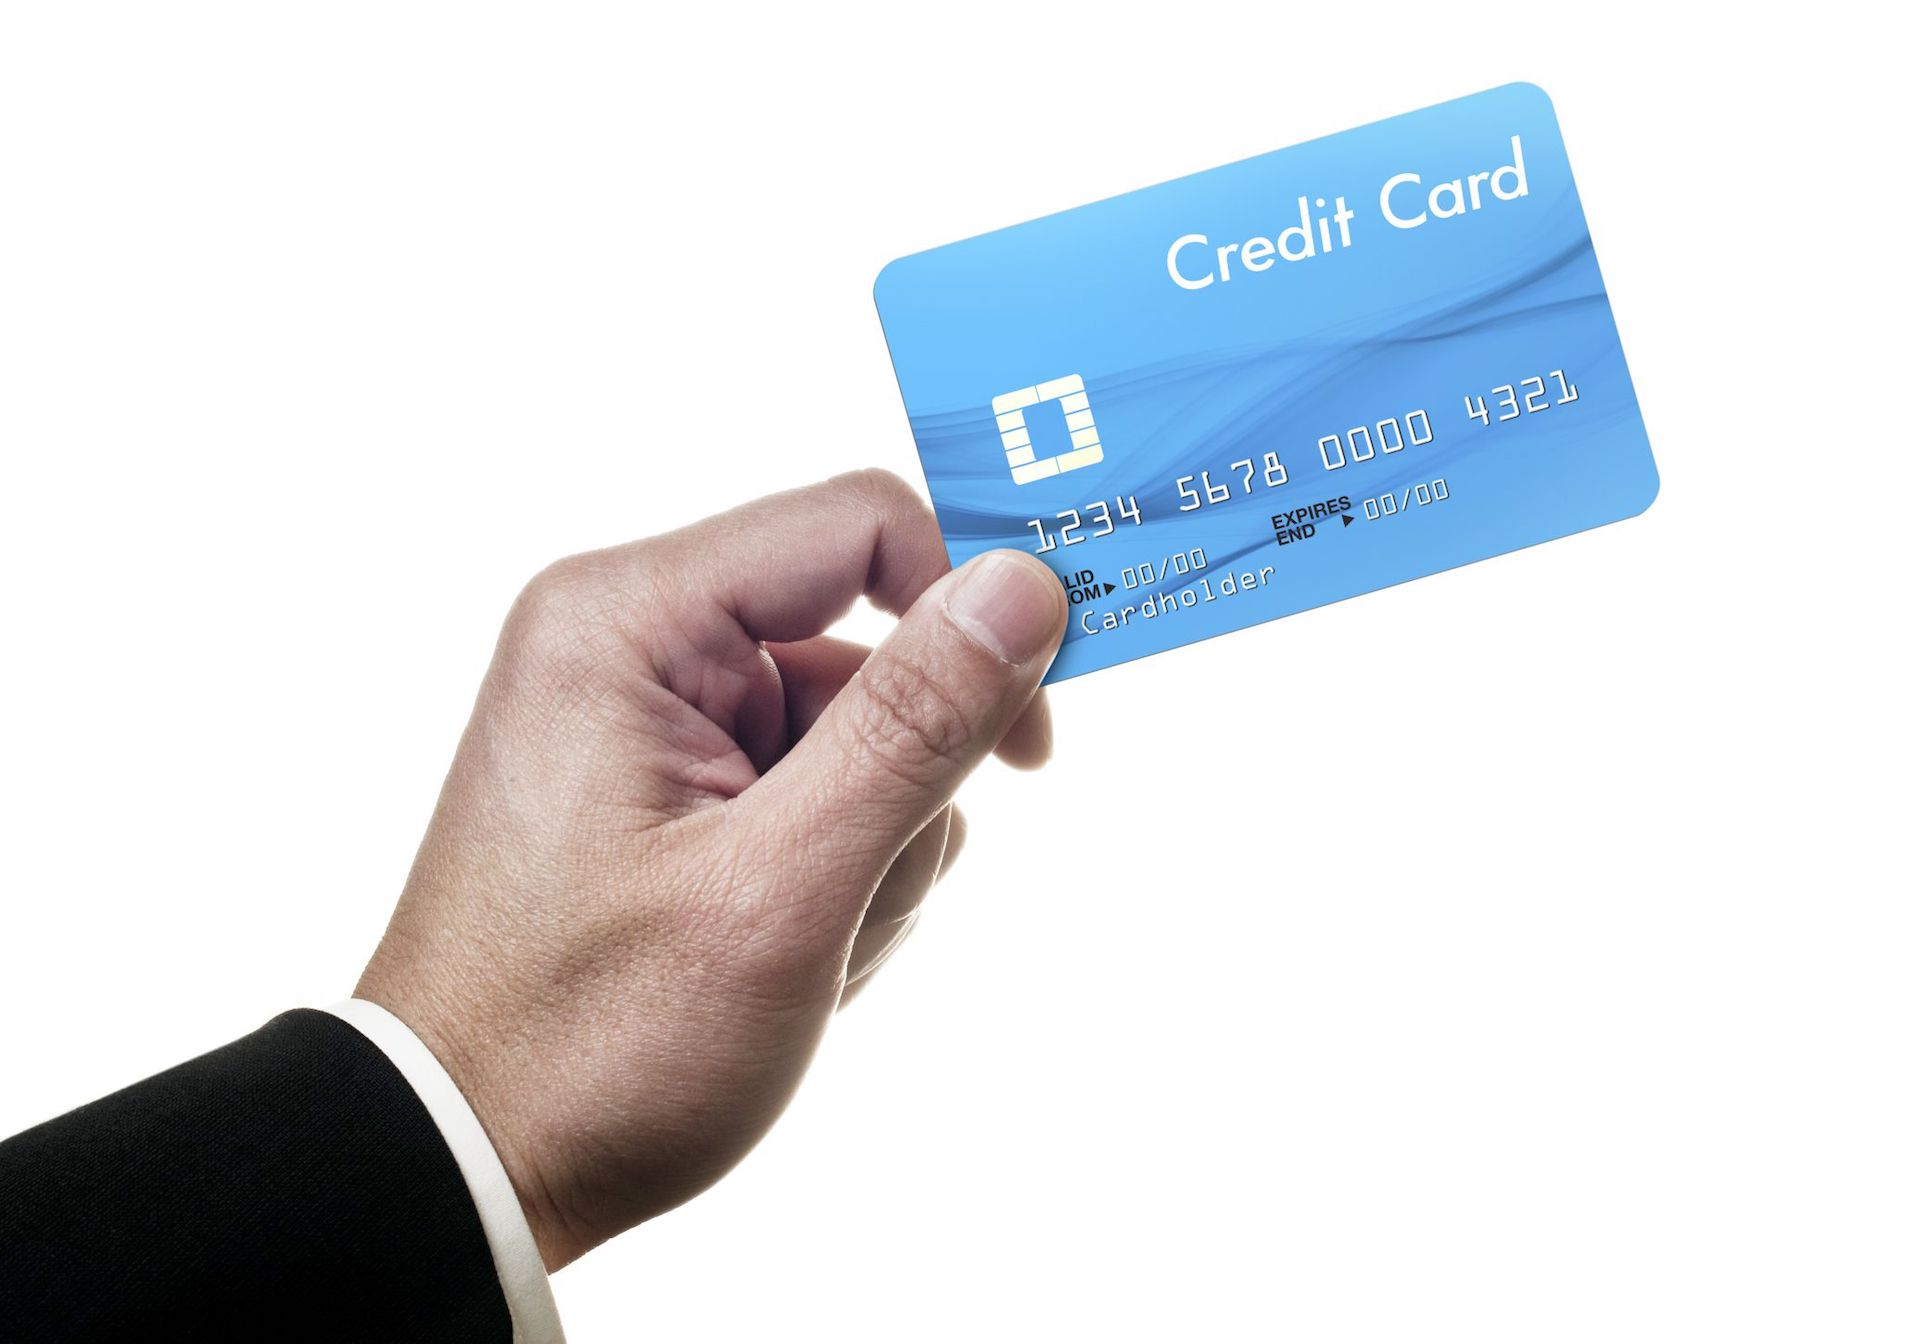tarjeta: (870, 77, 1665, 700)
